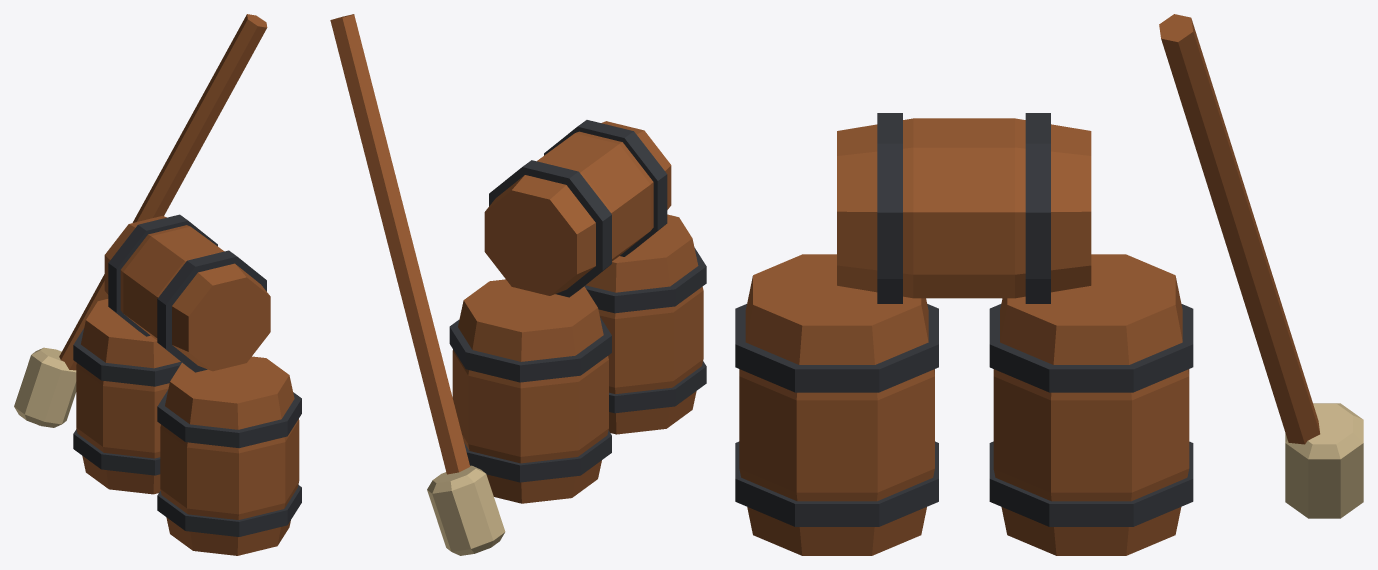
The model's file is CannonKit6.obj.
3 renders of one model, left to right at view 1: azimuth 30°, elevation 25°; view 2: azimuth 150°, elevation 25°; view 3: azimuth 270°, elevation 25°, orthographic. The views are drawn at different scales.
Visible parts, largest first — view 1: CannonKit6; view 2: CannonKit6; view 3: CannonKit6.
Part boxes in pixels (x1,y1,x2,y2): CannonKit6: [14, 14, 301, 555]; CannonKit6: [330, 14, 706, 555]; CannonKit6: [735, 14, 1363, 555].
Bounding box in the file's own units: 0.3426 × 0.6365 × 0.593.
